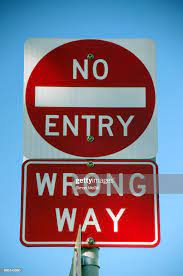No entry: (26, 39, 158, 157)
